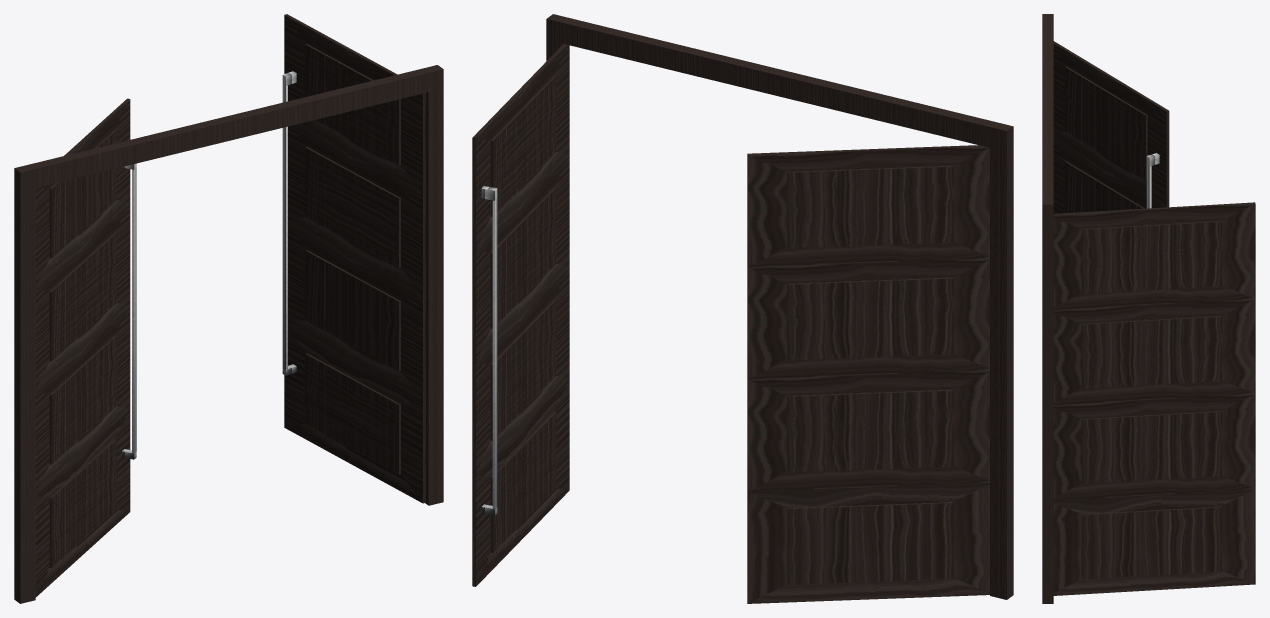
File: Pintu besar.fbx
3 renders of one model, left to right at view 1: azimuth 30°, elevation 25°; view 2: azimuth 150°, elevation 25°; view 3: azimuth 270°, elevation 25°, orthographic. The views are drawn at different scales.
Parts seen in each view (by area): view 1: Pintu besar.001, Pintu besar.002, Cube.279; view 2: Pintu besar.002, Pintu besar.001, Cube.279; view 3: Pintu besar.001, Pintu besar.002, Cube.279.
Part boxes in pixels (<box>): Pintu besar.001: <box>282,14,425,503</box>; Pintu besar.002: <box>35,98,136,597</box>; Cube.279: <box>14,65,443,603</box>; Pintu besar.002: <box>747,145,989,603</box>; Pintu besar.001: <box>472,44,569,586</box>; Cube.279: <box>546,14,1013,599</box>; Pintu besar.001: <box>1053,202,1255,595</box>; Pintu besar.002: <box>1053,41,1169,213</box>; Cube.279: <box>1042,14,1053,603</box>.
Bounding box in the file's own units: 353 × 344 × 167.
